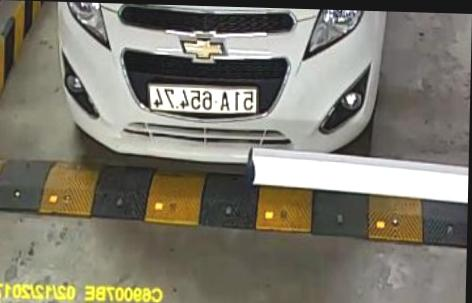License_Plate: (147, 81, 257, 119)
